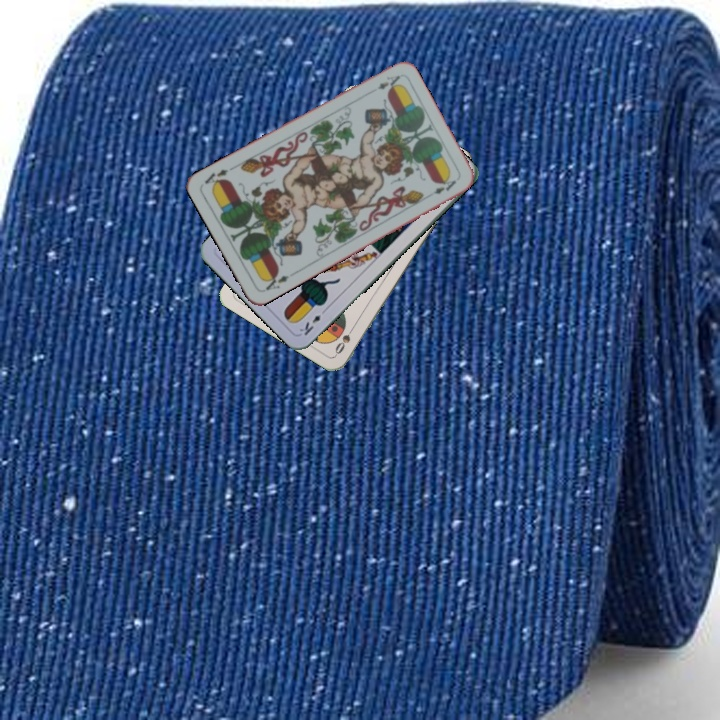EA: (259, 269, 292, 294), (373, 71, 403, 92)
EK: (295, 304, 330, 338)
SO: (331, 321, 358, 357)
